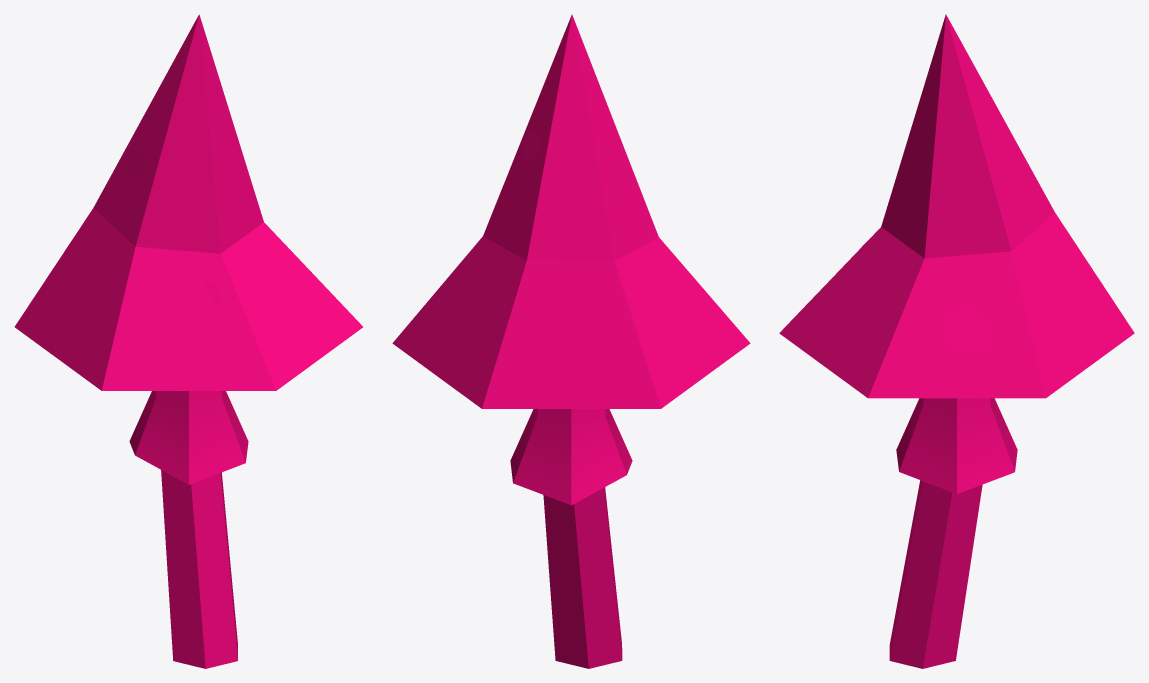
The model's file is SM_SS_Mushroom_1.fbx.
The picture shows the model from 3 angles, left to right: view 1: azimuth 30°, elevation 25°; view 2: azimuth 150°, elevation 25°; view 3: azimuth 270°, elevation 25°; orthographic projection. The views are drawn at different scales.
Visible parts, largest first — view 1: SM_SS_Mushroom_1; view 2: SM_SS_Mushroom_1; view 3: SM_SS_Mushroom_1.
Part boxes in pixels (x1,y1,x2,y2): SM_SS_Mushroom_1: (14,14,362,668); SM_SS_Mushroom_1: (392,14,750,668); SM_SS_Mushroom_1: (779,14,1134,668).
Bounding box in the file's own units: 5.54 × 6.4 × 12.74.
